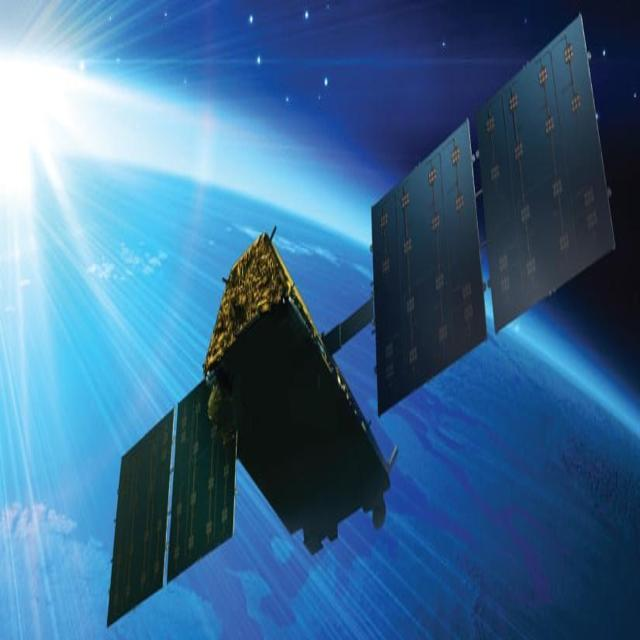sat: (98, 0, 622, 632)
